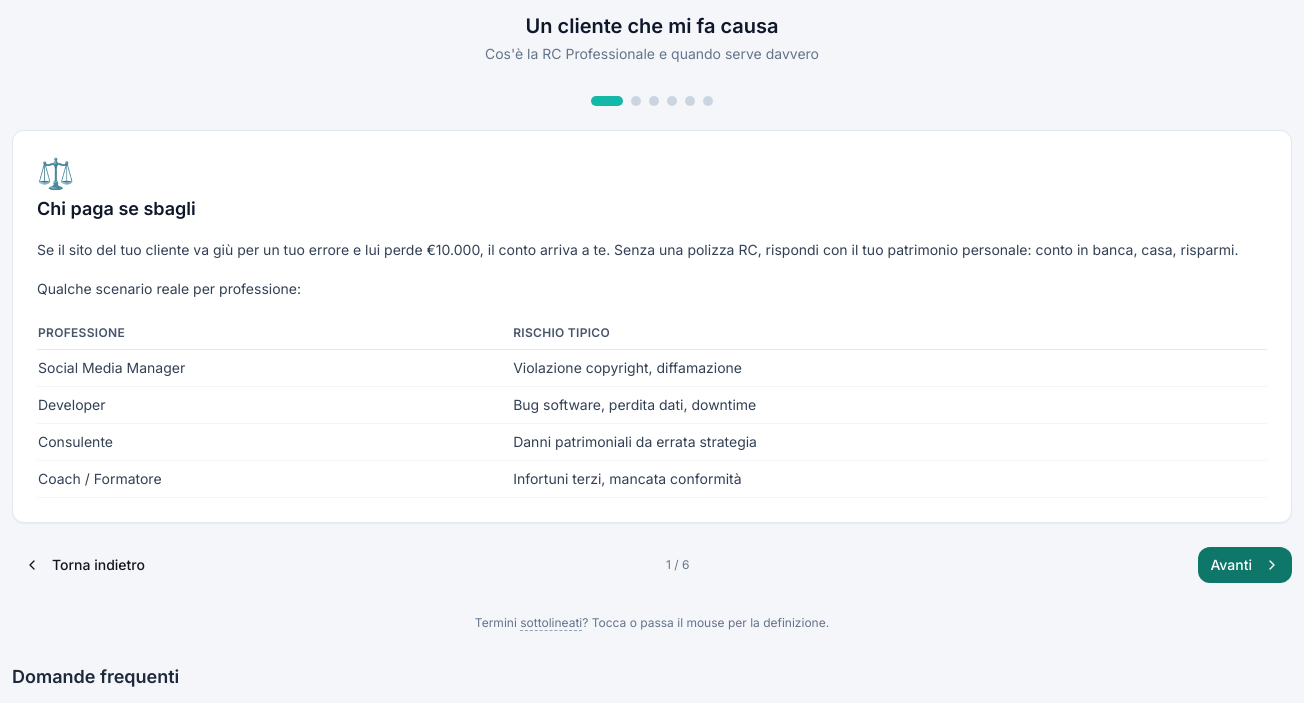
PercorsoRcProfessionale › navigazione indietro funziona
Click the button "Avanti": (1245, 564) [1198,546,1292,582]
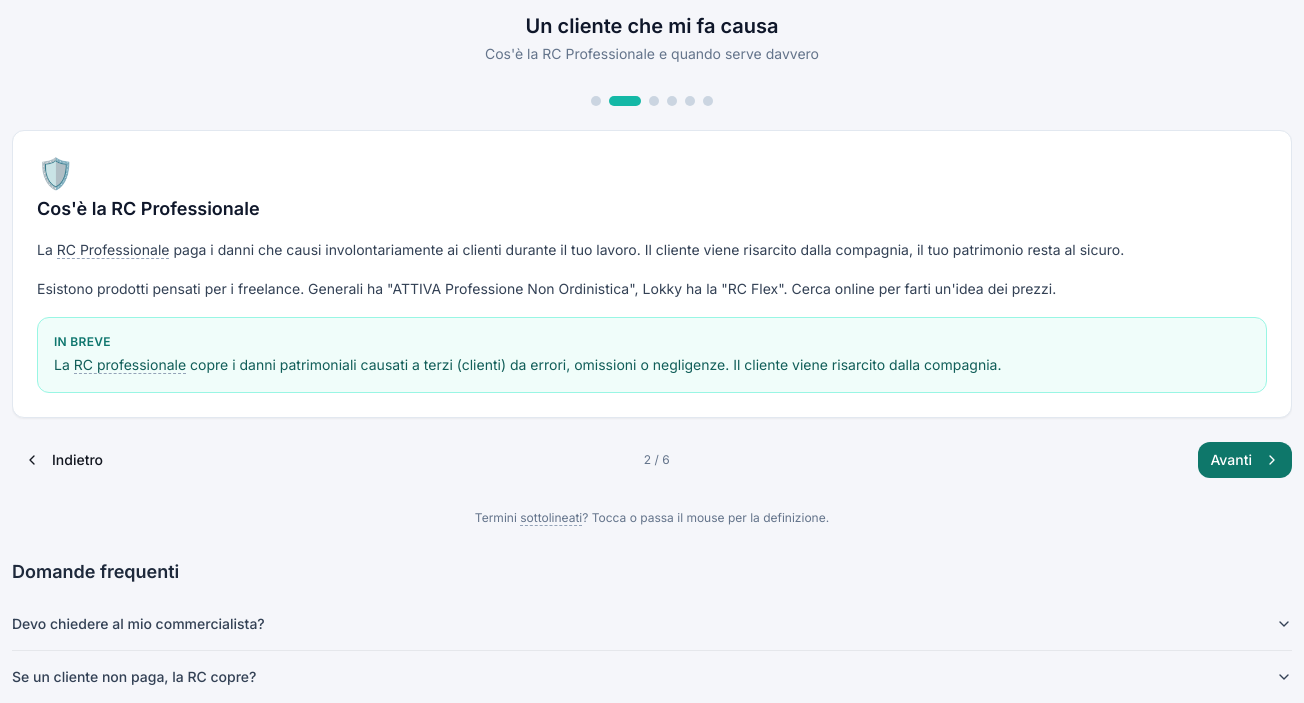
Result: the text "2 / 6" is shown at [644,452,670,468]
Click the button "Indietro": (64, 460) [12,442,115,478]
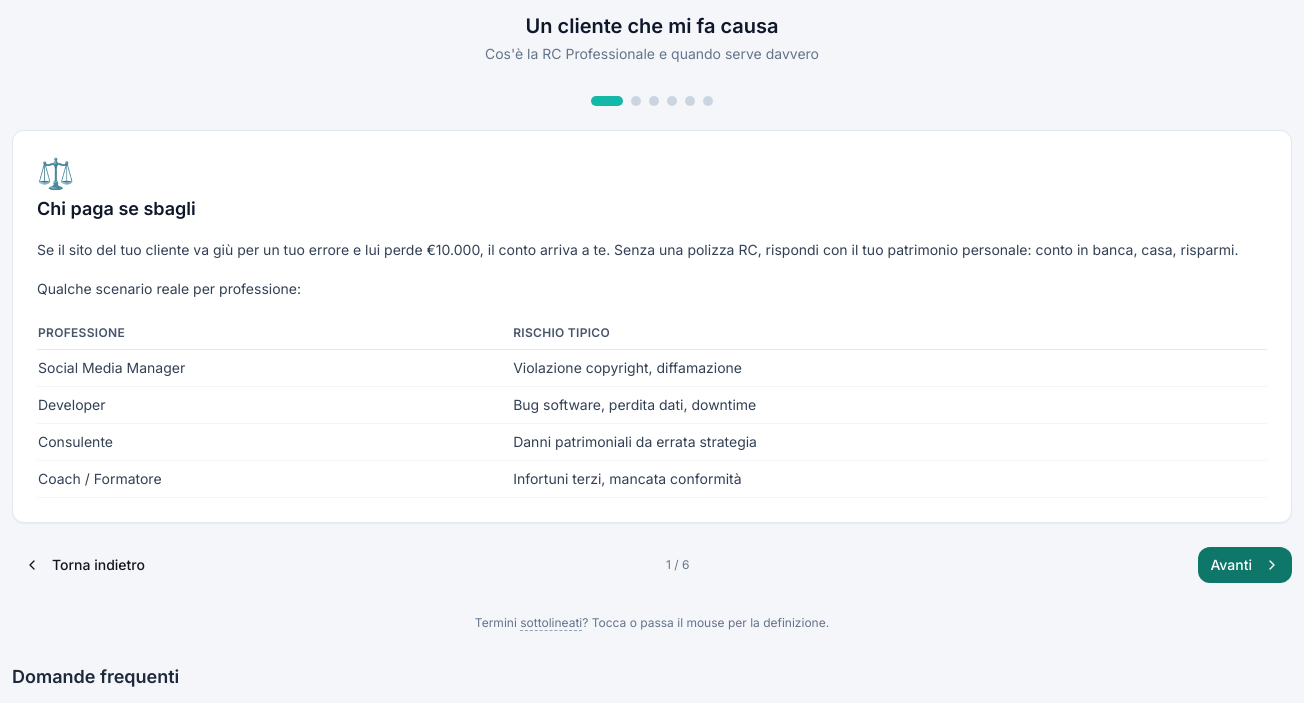
Result: the text "1 / 6" is shown at [666,556,689,572]
